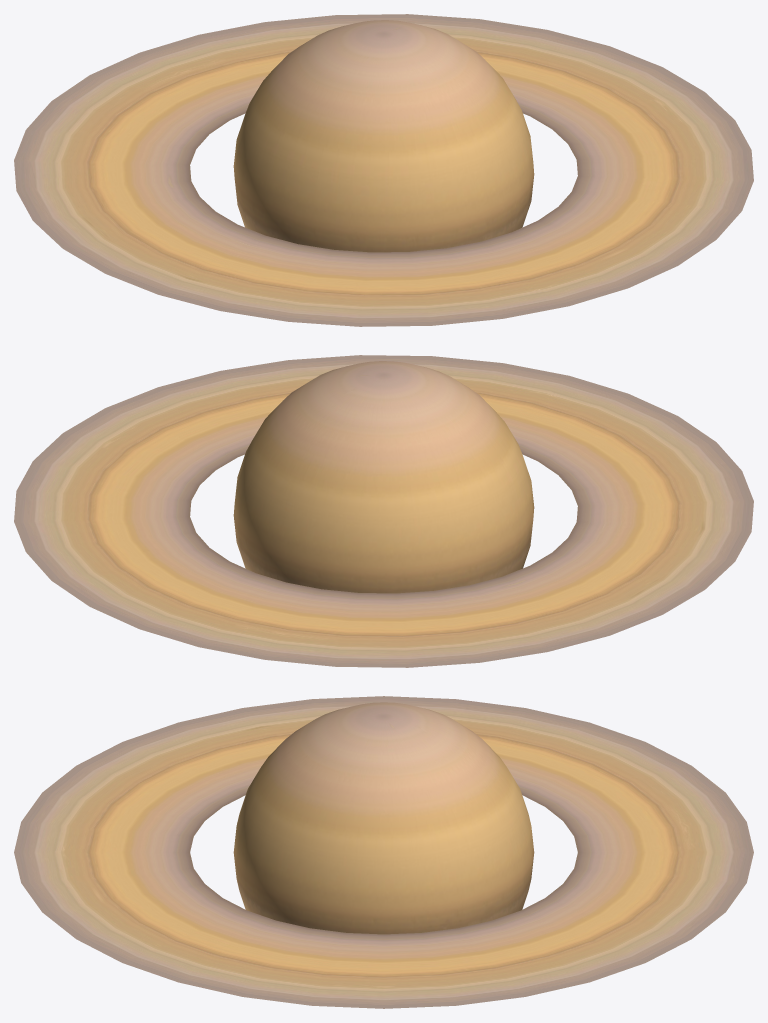
Rendered from saturnus1.fbx.
3 renders of one model, top to bottom at view 1: azimuth 30°, elevation 25°; view 2: azimuth 150°, elevation 25°; view 3: azimuth 270°, elevation 25°, orthographic.
Parts seen in each view (by area): view 1: Sphere.002, Sphere.001; view 2: Sphere.002, Sphere.001; view 3: Sphere.002, Sphere.001.
Part boxes in pixels (x1,y1,x2,y2): Sphere.002: (14,14,753,326); Sphere.001: (233,20,534,252); Sphere.002: (14,355,753,667); Sphere.001: (233,361,534,593); Sphere.002: (14,696,753,1008); Sphere.001: (233,702,534,934).
Size of the model in its own units: 857 by 348 by 857.
Materials: 1 (1 with a texture image).
